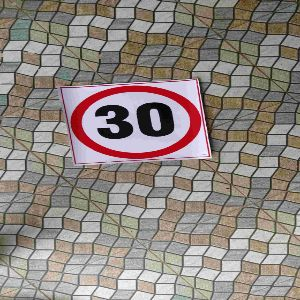speedlimit30: (63, 82, 209, 161)
